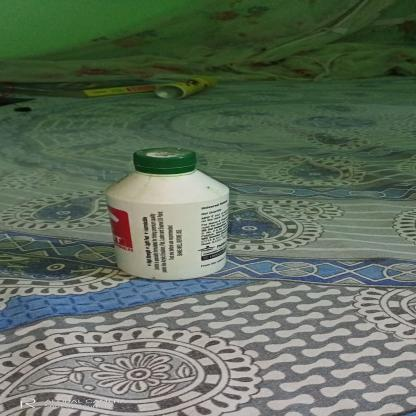bottle: (103, 148, 235, 284)
